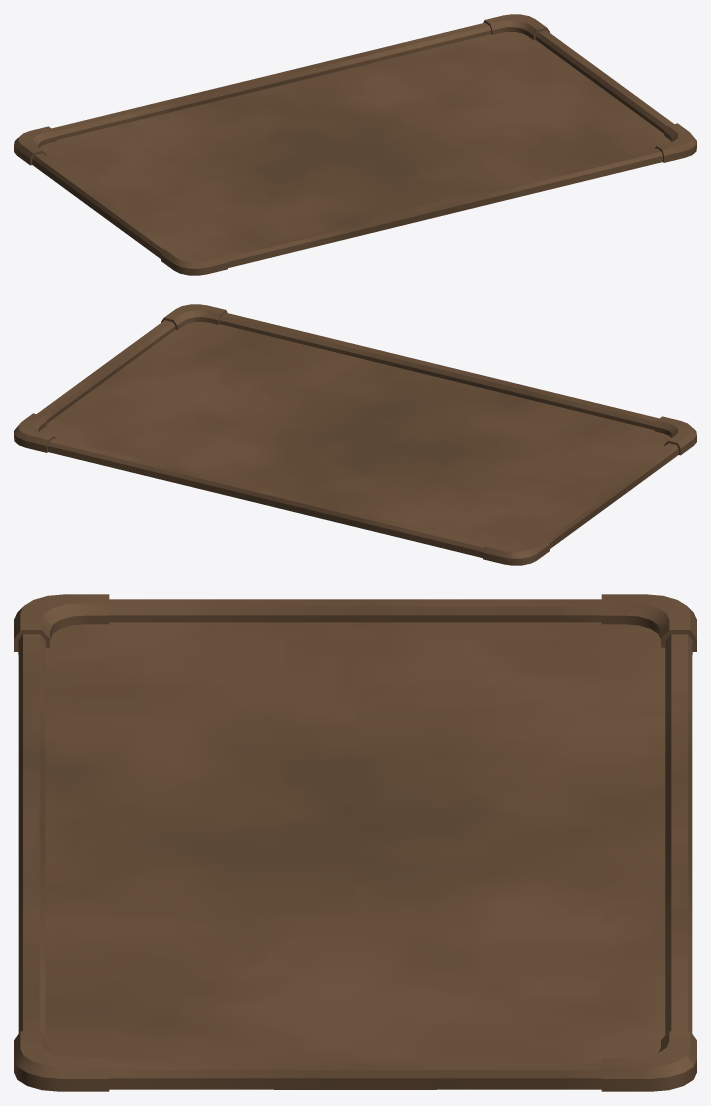
The model's file is noticeboard.glb.
The picture shows the model from 3 angles, top to bottom: view 1: azimuth 30°, elevation 25°; view 2: azimuth 150°, elevation 25°; view 3: azimuth 270°, elevation 25°; orthographic projection. The views are drawn at different scales.
Parts seen in each view (by area): view 1: noticeboard; view 2: noticeboard; view 3: noticeboard.
Part boxes in pixels (x1,y1,x2,y2): noticeboard: (14, 14, 696, 275); noticeboard: (14, 304, 696, 565); noticeboard: (14, 594, 696, 1091).
Bounding box in the file's own units: 1.01 × 0.0217 × 0.6084.
1 material, 1 textured.
